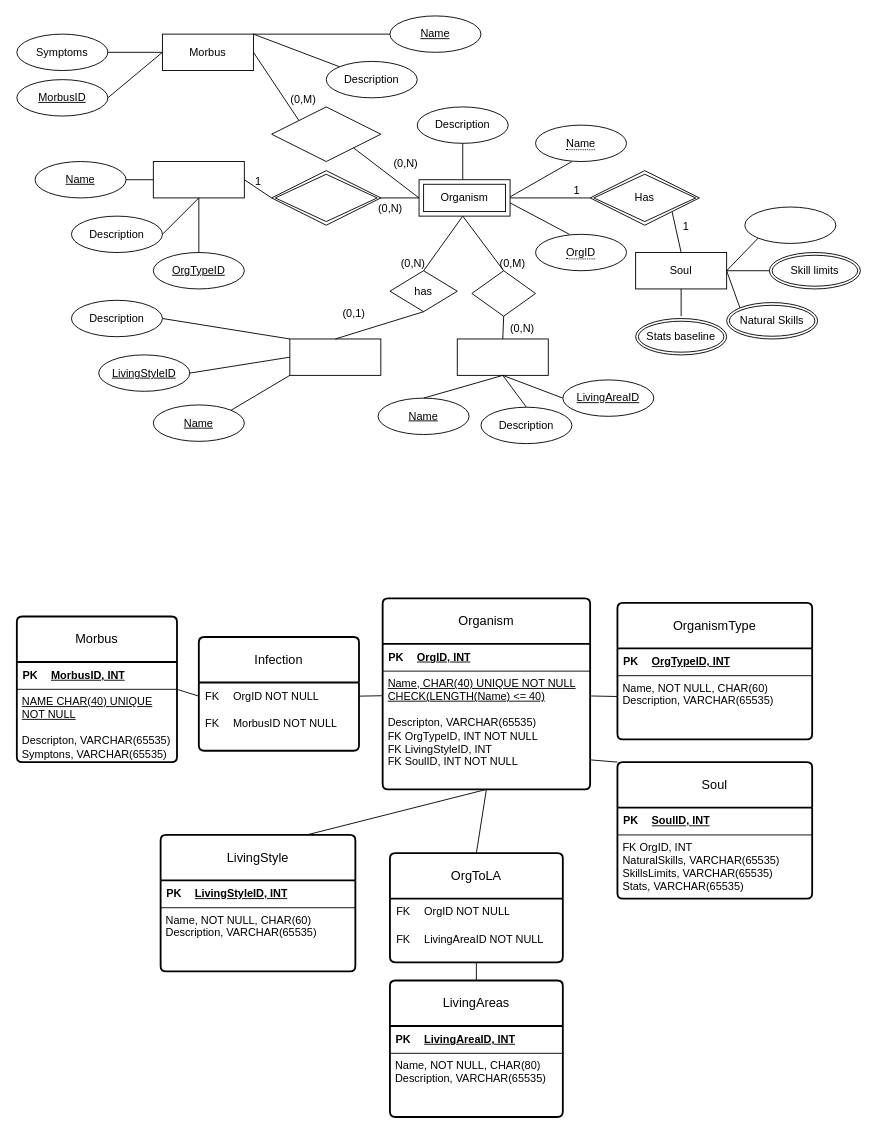
This 876x1134 diagram has some shape labels left out. The centre of each missing label's shape, as x and y in pixels:
can Infect: pixel 326 134
IsType: pixel 326 197
Lives: pixel 503 293
Living areas: pixel 502 356
Living styles: pixel 335 356
Organism Type: pixel 198 179
SoulID: pixel 790 224
